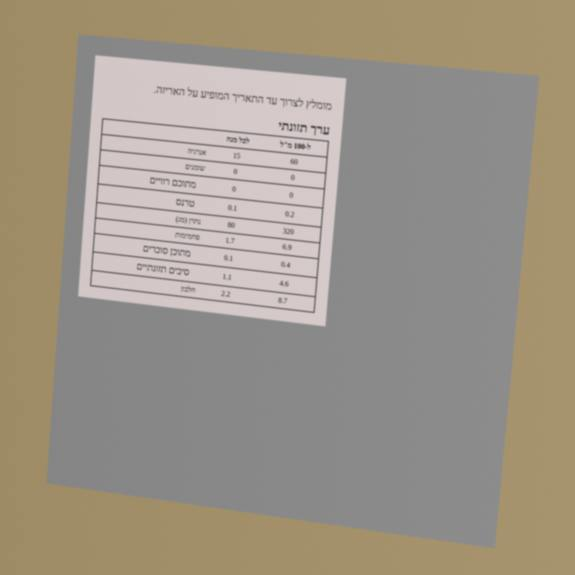carbs: (281, 242, 293, 253)
energy: (289, 156, 299, 167)
fat: (290, 172, 296, 183)
protein: (277, 295, 289, 306)
